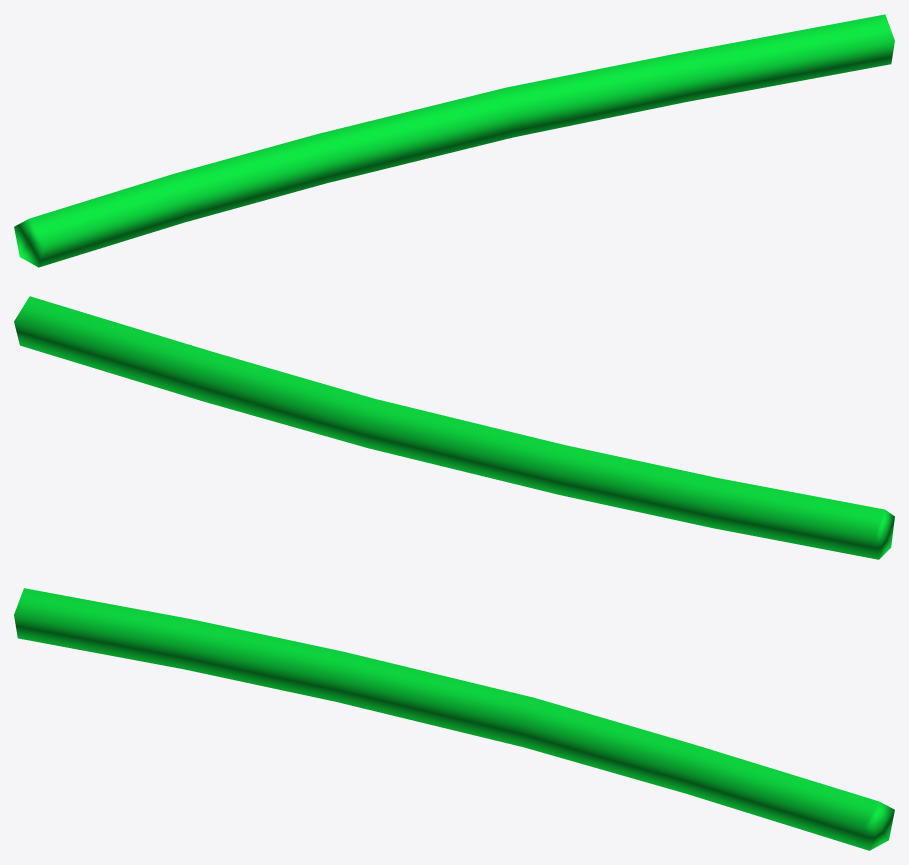
Rendered from Pipe_Turn_E_Ext.fbx.
3 renders of one model, top to bottom at view 1: azimuth 30°, elevation 25°; view 2: azimuth 150°, elevation 25°; view 3: azimuth 330°, elevation 25°, orthographic.
Parts seen in each view (by area): view 1: Pipe_Turn_E_Ext; view 2: Pipe_Turn_E_Ext; view 3: Pipe_Turn_E_Ext.
Boxes of the visible parts, left/top/right/bottom form: Pipe_Turn_E_Ext: left=14, top=14, right=894, bottom=267; Pipe_Turn_E_Ext: left=14, top=296, right=894, bottom=559; Pipe_Turn_E_Ext: left=14, top=588, right=894, bottom=850.
Size of the model in its own units: 4.17 by 0.2062 by 0.3683.
